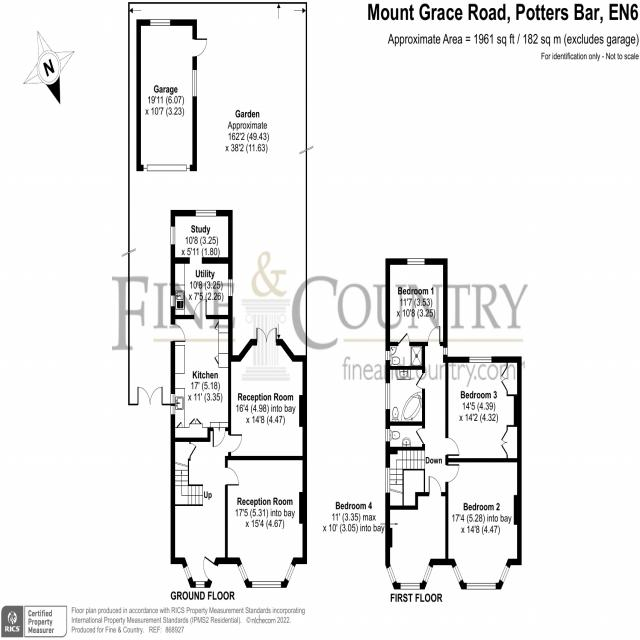DOOR: (202, 555, 218, 583), (224, 466, 240, 486), (445, 463, 460, 483), (445, 437, 460, 457), (193, 298, 207, 319), (212, 427, 226, 448), (228, 434, 243, 453), (171, 323, 186, 342), (428, 476, 442, 496), (427, 326, 441, 346), (415, 427, 425, 445), (415, 372, 425, 389), (398, 332, 410, 346)
DOUBLE DOOR: (255, 325, 278, 346)
ROOM: (225, 456, 307, 588), (445, 458, 522, 590), (170, 298, 233, 447), (443, 356, 522, 462), (385, 476, 449, 590), (385, 258, 448, 346)
WINDOW: (251, 580, 282, 589), (237, 562, 249, 583), (284, 562, 296, 583), (466, 582, 496, 590), (499, 563, 510, 584), (452, 564, 463, 584), (422, 564, 433, 584), (386, 565, 397, 584), (469, 356, 492, 363), (195, 210, 217, 217), (183, 565, 192, 581), (400, 583, 420, 590), (385, 383, 390, 410), (385, 467, 390, 493), (407, 258, 425, 265), (170, 226, 175, 245), (228, 279, 233, 297), (170, 295, 176, 307), (385, 428, 390, 442), (195, 581, 205, 588), (385, 350, 390, 361), (170, 393, 175, 404), (170, 405, 175, 415), (443, 347, 448, 355)
